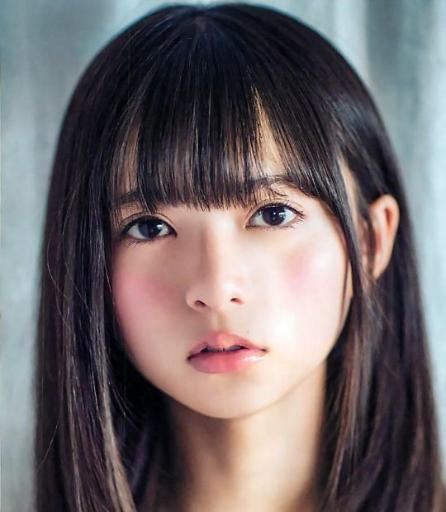left_eye: (246, 201, 308, 235)
left_lip_corner: (255, 341, 278, 362)
right_eye: (122, 216, 180, 246)
right_lip_corner: (182, 351, 198, 369)
